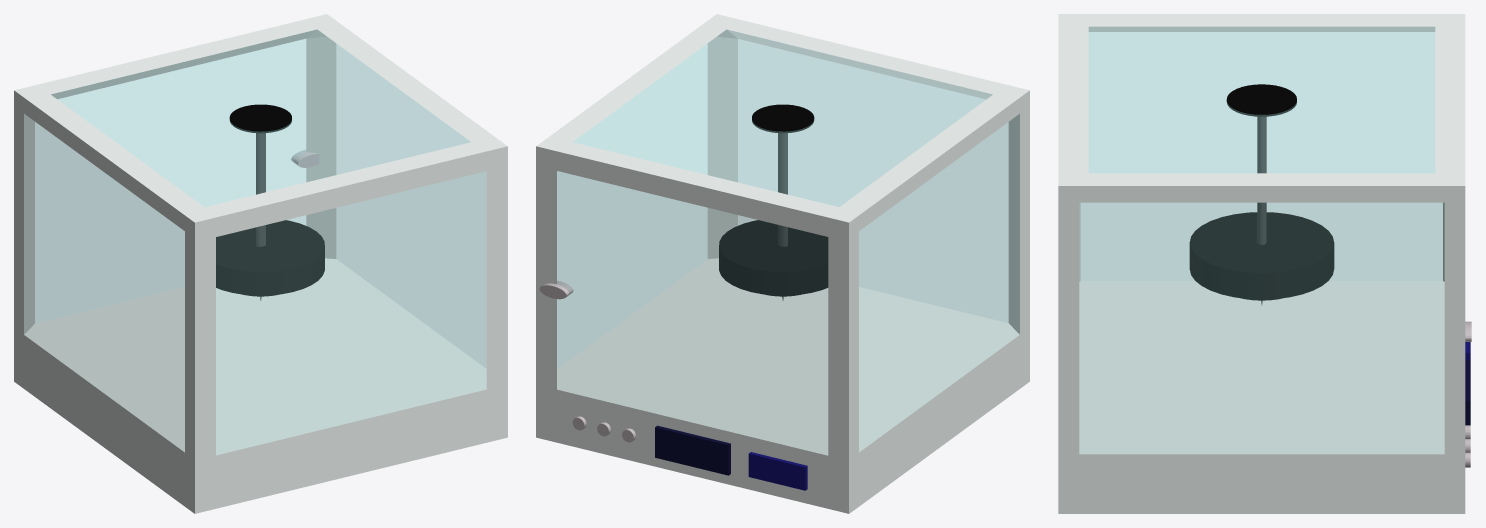
File: 3D_Printer.fbx
The picture shows the model from 3 angles, left to right: view 1: azimuth 30°, elevation 25°; view 2: azimuth 150°, elevation 25°; view 3: azimuth 270°, elevation 25°; orthographic projection. The views are drawn at different scales.
Parts seen in each view (by area): view 1: Cube, Cube.008, Cube.002, Cube.010, Cube.009, Cube.006, Cylinder, Cylinder.004, Cylinder.003; view 2: Cube, Cube.002, Cube.008, Cube.010, Cube.009, Cube.006, Cylinder, Cube.003, Cube.004, Cylinder.004, Cylinder.003; view 3: Cube, Cube.006, Cube.009, Cube.010, Cylinder, Cylinder.004, Cylinder.003.
Boxes of the visible parts, x1,y1,x2,y2 form: Cube: (14, 14, 507, 513); Cube.008: (216, 171, 486, 454); Cube.002: (35, 39, 305, 322); Cube.010: (51, 30, 469, 206); Cube.009: (24, 114, 184, 451); Cube.006: (337, 44, 485, 367); Cylinder: (216, 220, 324, 295); Cylinder.004: (229, 104, 291, 133); Cylinder.003: (256, 133, 265, 246); Cube: (536, 14, 1029, 513); Cube.002: (557, 171, 827, 455); Cube.008: (738, 39, 1007, 322); Cube.010: (574, 30, 992, 206); Cube.009: (859, 114, 1019, 451); Cube.006: (557, 44, 706, 368); Cylinder: (719, 220, 828, 295); Cube.003: (655, 425, 730, 475); Cube.004: (748, 452, 807, 490); Cylinder.004: (752, 104, 814, 133); Cylinder.003: (778, 133, 787, 246); Cube: (1058, 14, 1465, 513); Cube.006: (1079, 203, 1444, 453); Cube.009: (1081, 32, 1442, 280); Cube.010: (1089, 27, 1434, 172); Cylinder: (1189, 212, 1334, 299); Cylinder.004: (1226, 84, 1296, 116); Cylinder.003: (1257, 116, 1266, 244).
Size of the model in its own units: 186 by 166 by 189.
